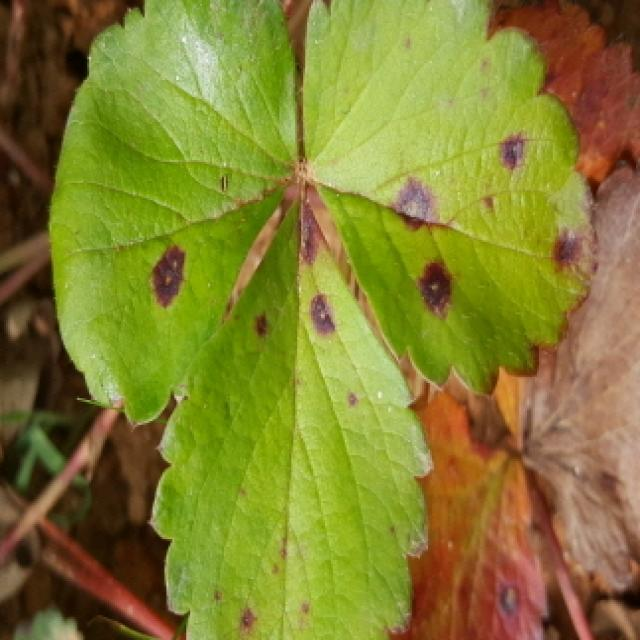Leaf Spot: (148, 194, 437, 640), (302, 0, 603, 395), (48, 0, 303, 427), (390, 352, 551, 640)
